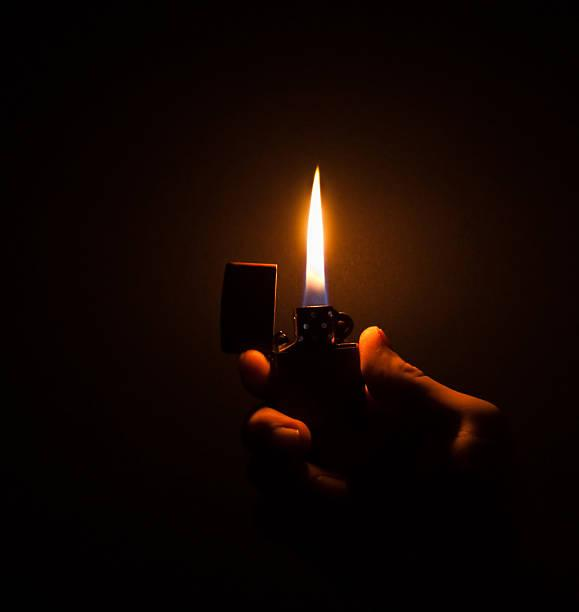Fire: (302, 156, 334, 306)
